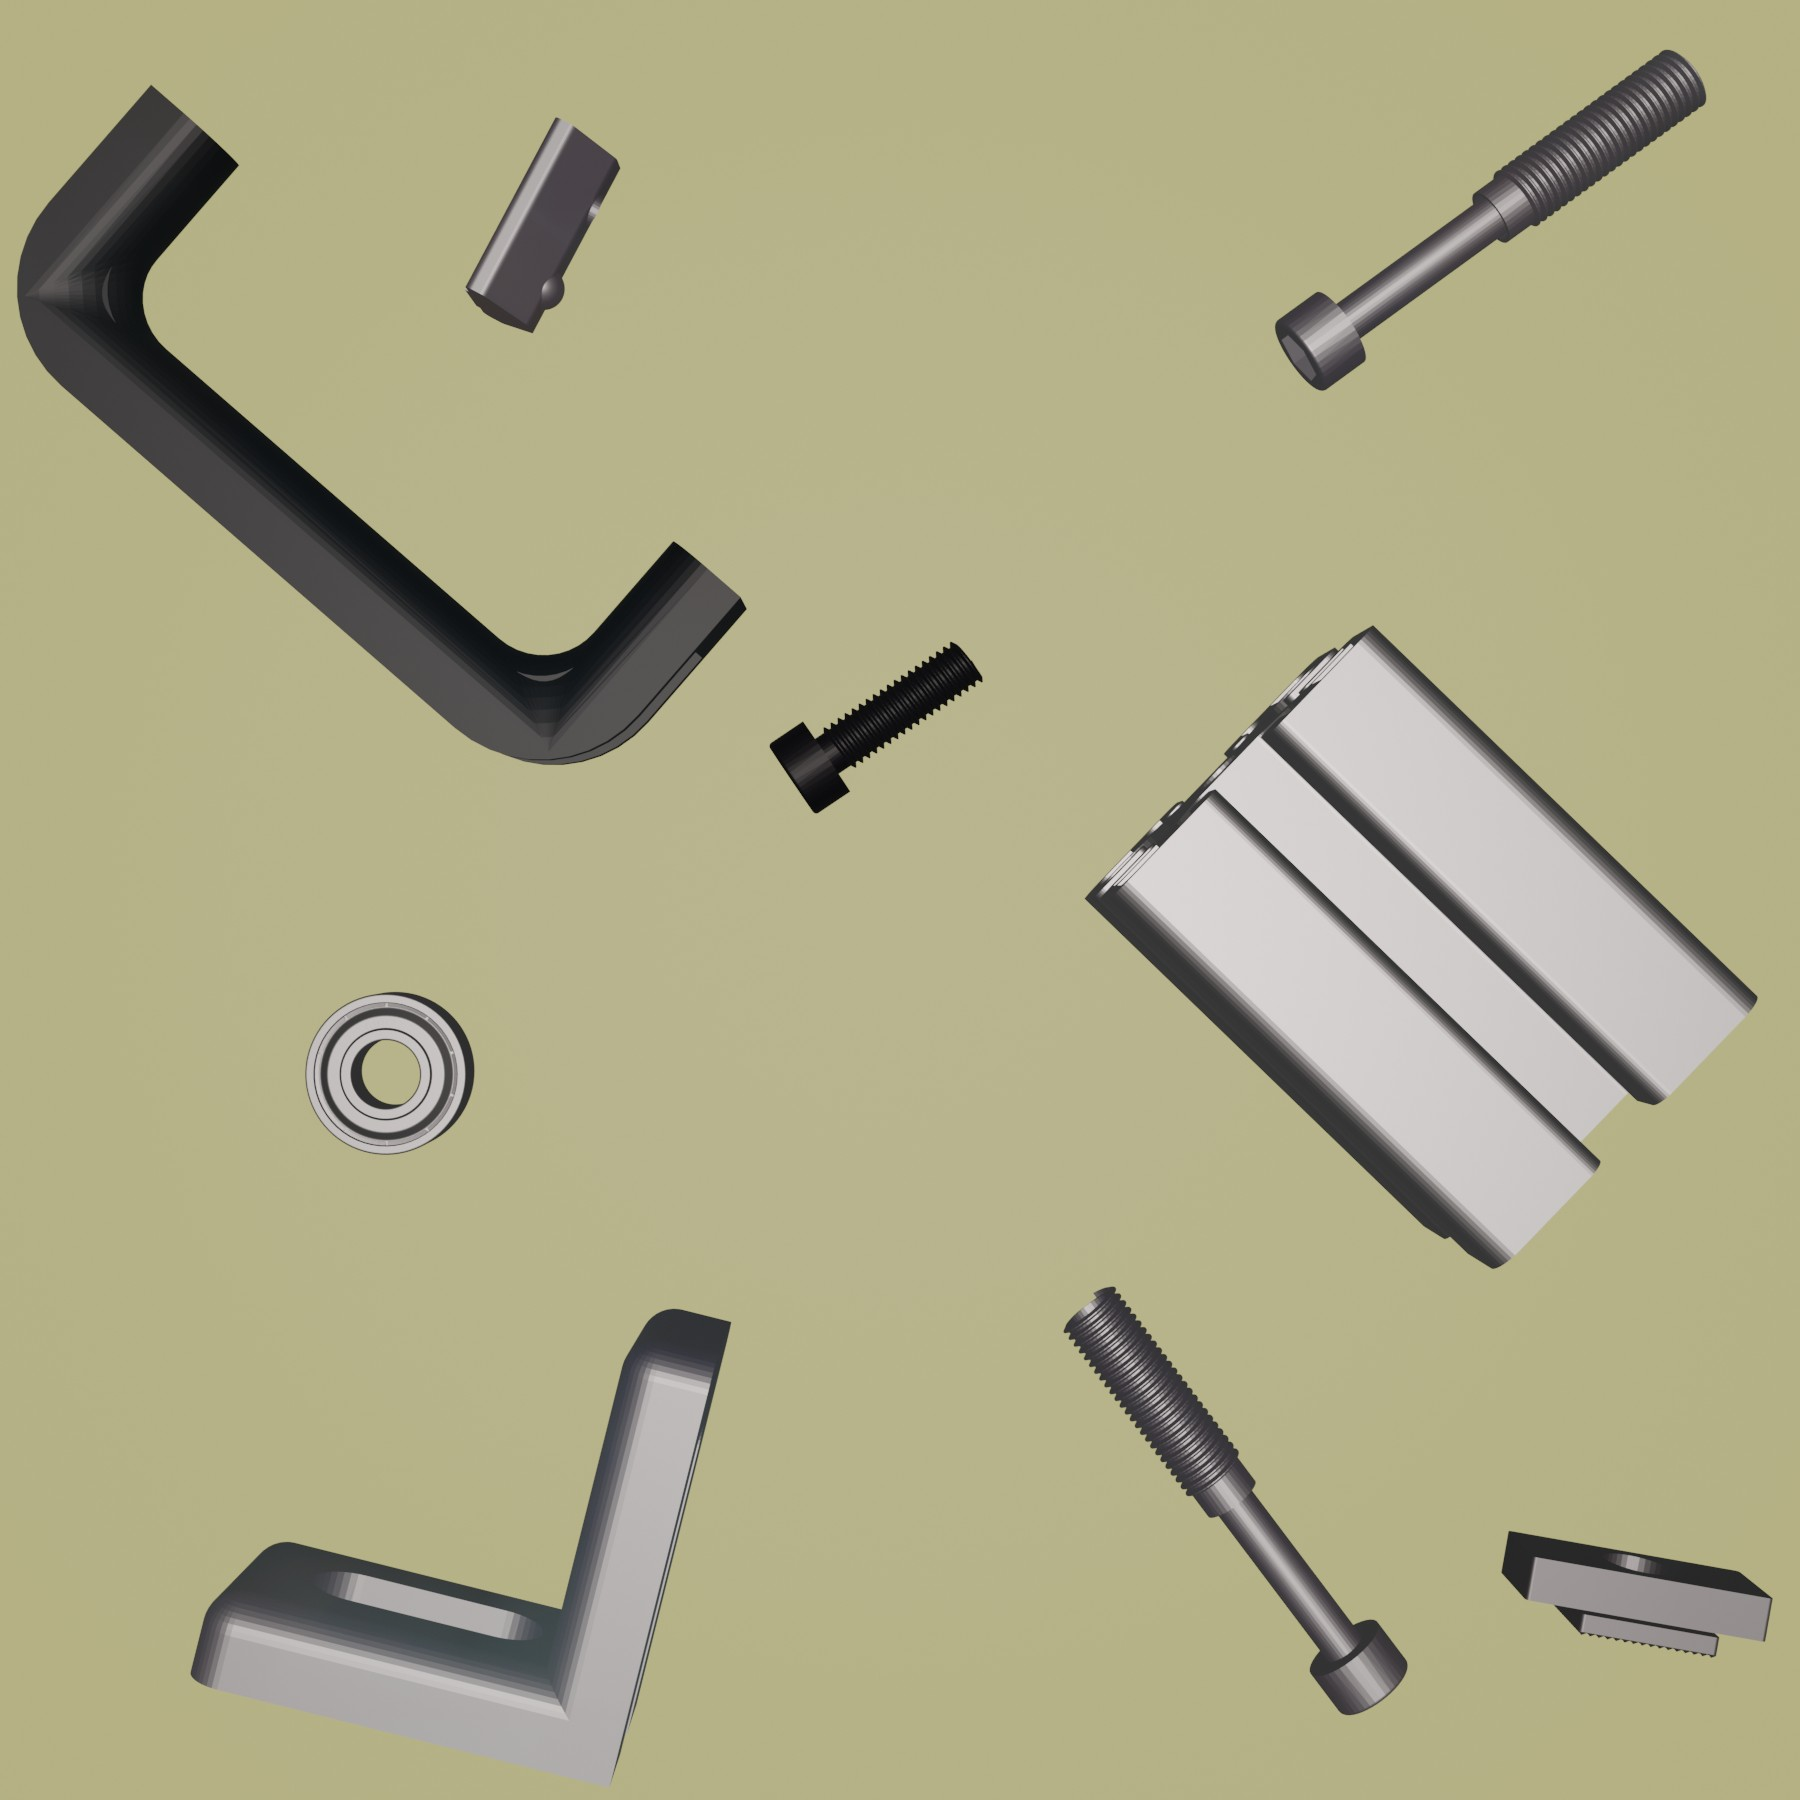Aluminium Extension: (1081, 625, 1759, 1274)
Ball Bearing: (302, 989, 475, 1159)
Multiwinkel: (190, 1307, 735, 1785)
Pull Handle: (16, 84, 752, 768)
Shoulder Socket Head Cap Screw: (1058, 1282, 1409, 1718), (1276, 45, 1706, 392)
Socket Head Cap Screw: (765, 640, 982, 814)
T Nut Square: (1500, 1528, 1775, 1658)
T Spring Nut: (462, 115, 621, 338)
